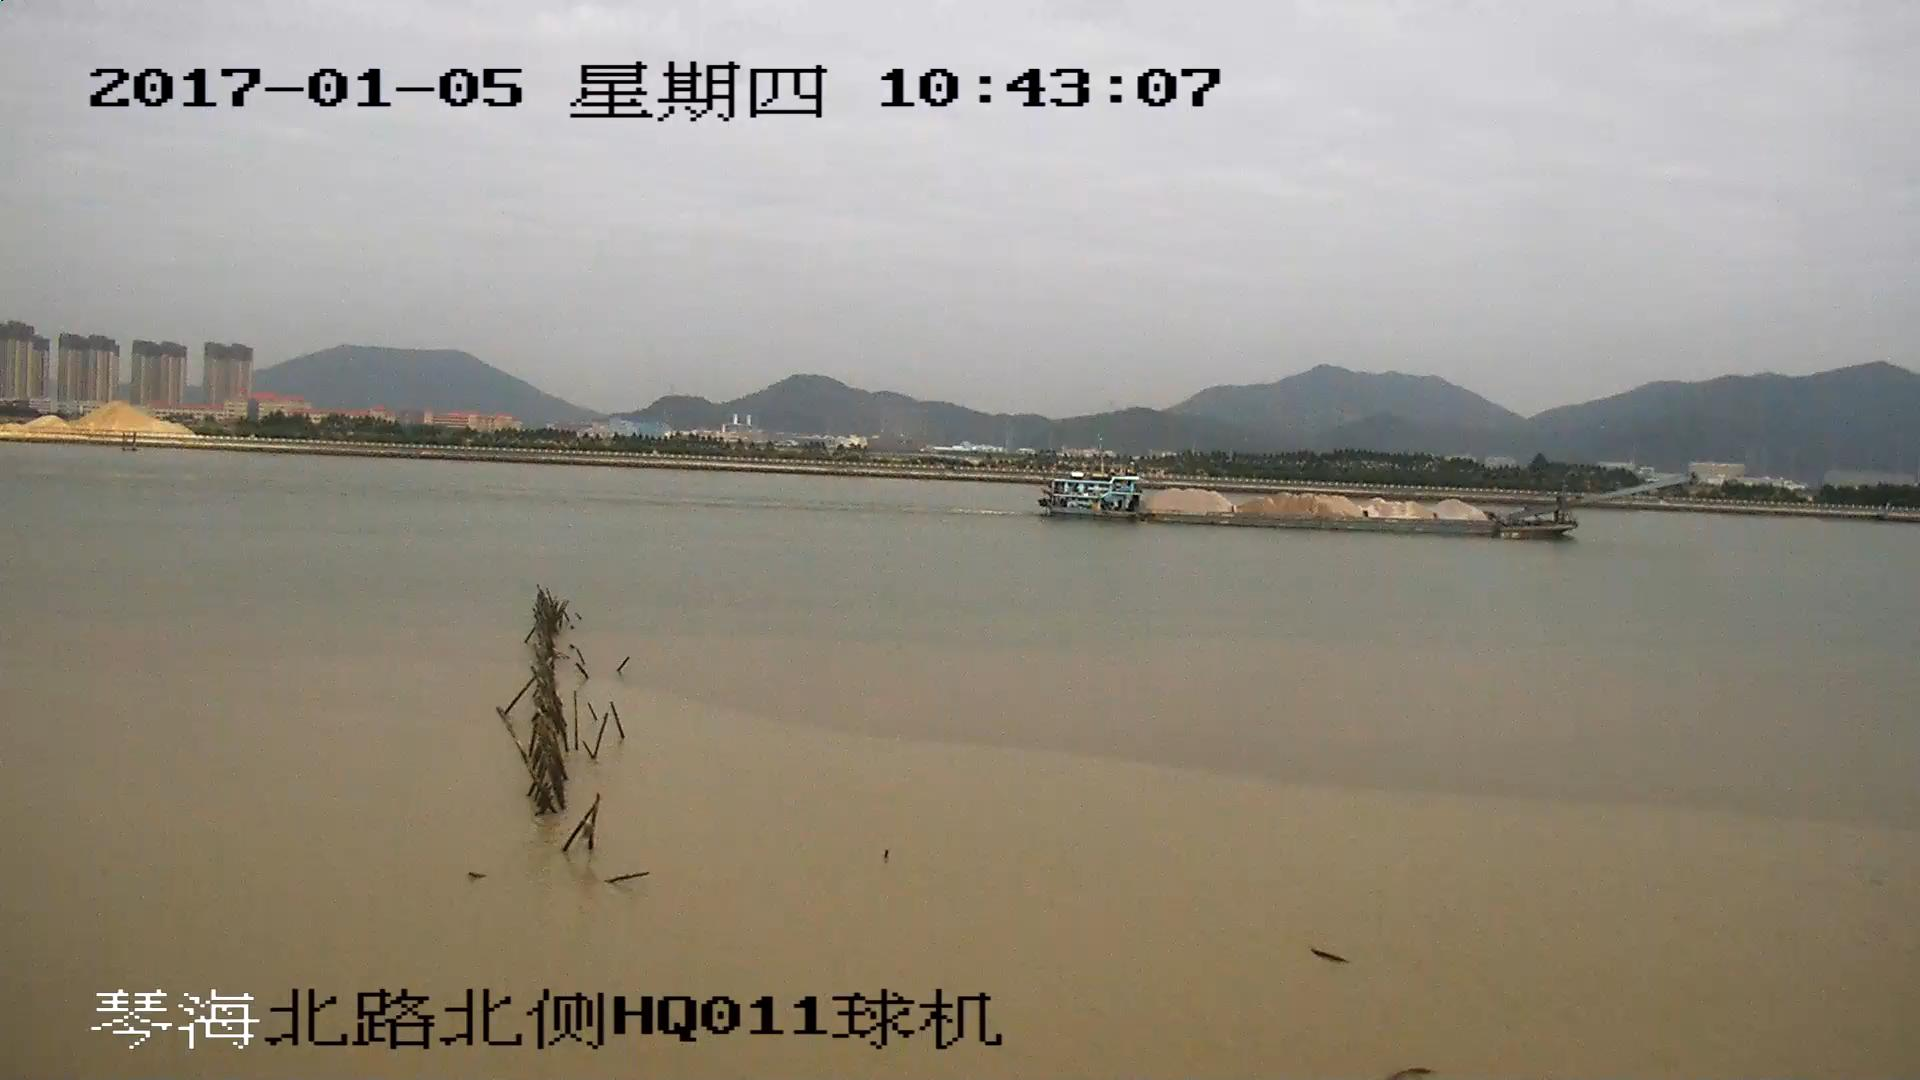ore carrier: (1042, 472, 1694, 538)
